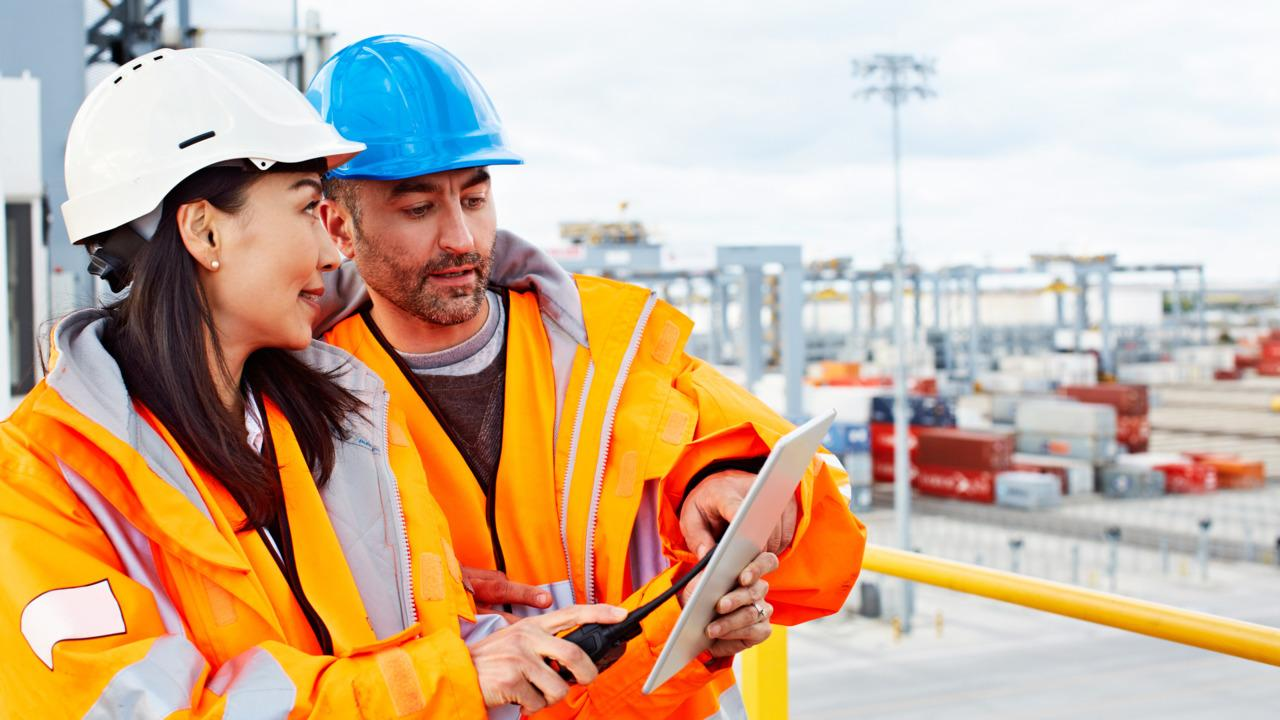helmet: (65, 48, 367, 253), (302, 33, 528, 188)
